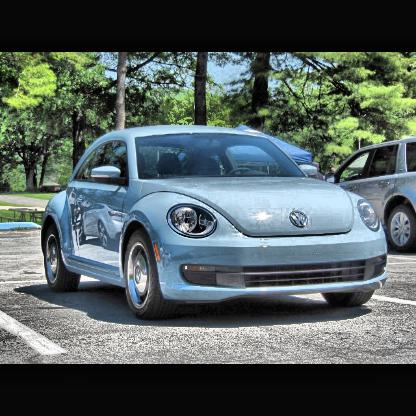Volkswagen Beetle Hatchback 2012: (42, 126, 389, 321)
